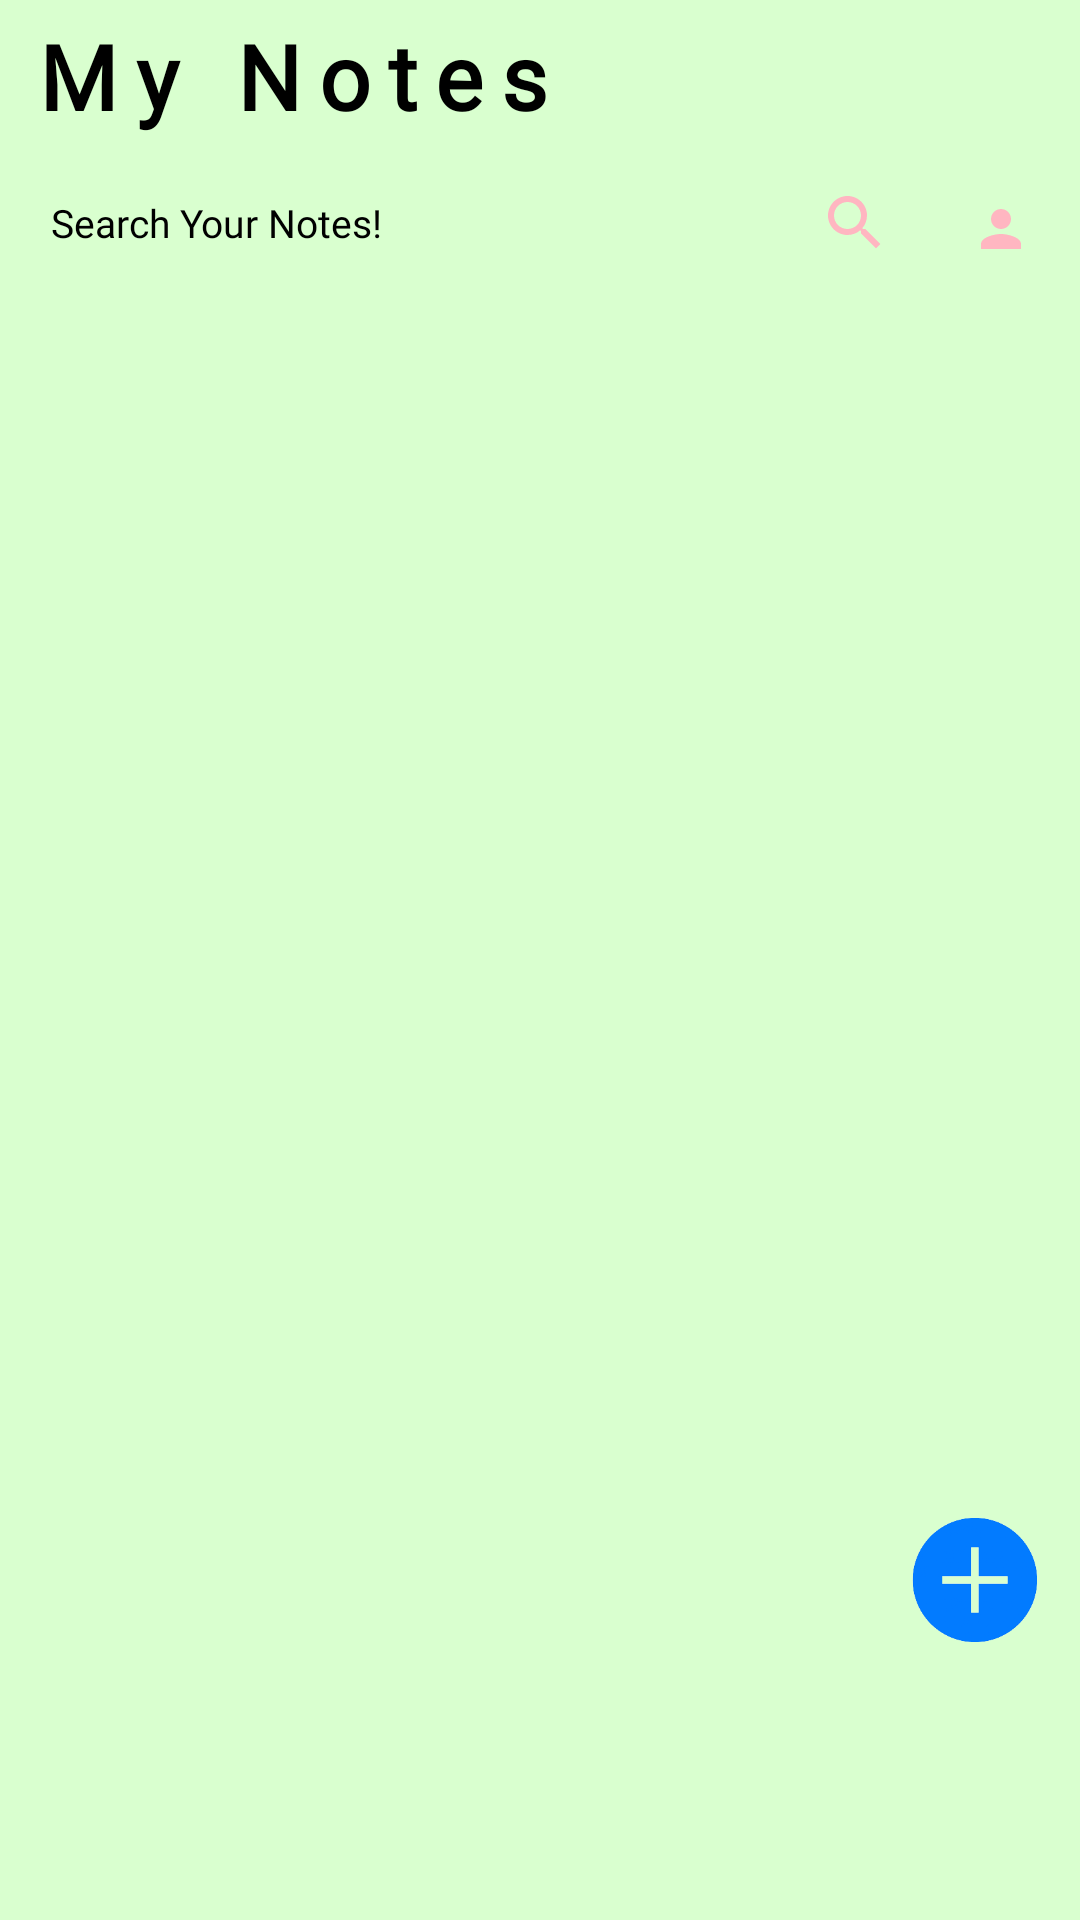

Locate icon controls on the screen. Image size 1080 x 1920, boxes as (x1, y1, x2, y2).
person: (981, 209, 1021, 249)
plus: (913, 1518, 1037, 1642)
